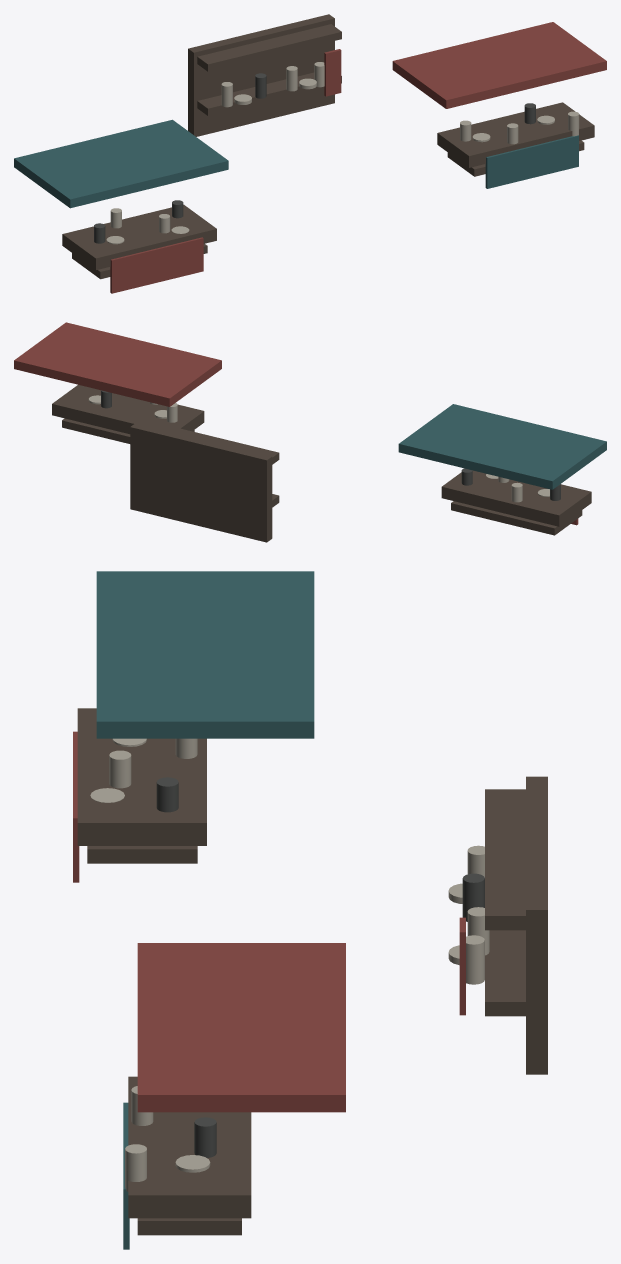
File: hd2d_market_prop_stall_detail_set.glb
3 renders of one model, top to bottom at view 1: azimuth 30°, elevation 25°; view 2: azimuth 150°, elevation 25°; view 3: azimuth 270°, elevation 25°, orthographic. The views are drawn at different scales.
Parts seen in each view (by area): view 1: StallClusterA_Canopy, StallClusterB_Canopy, StallClusterC_BackRack, StallClusterA_TableTop, StallClusterB_TableTop, StallClusterA_FabricDrop, StallClusterB_FabricDrop, StallClusterC_TopShelf, StallClusterC_LowerShelf, StallClusterC_HangingGoods; view 2: StallClusterC_BackRack, StallClusterA_Canopy, StallClusterB_Canopy, StallClusterA_TableTop, StallClusterB_TableTop, StallClusterA_ShelfLower, StallClusterC_TopShelf, StallClusterB_ShelfLower; view 3: StallClusterA_Canopy, StallClusterB_Canopy, StallClusterA_TableTop, StallClusterB_TableTop, StallClusterC_BackRack, StallClusterC_TopShelf, StallClusterC_LowerShelf, StallClusterA_ShelfLower, StallClusterB_ShelfLower, StallClusterC_CeramicJar11, StallClusterB_CeramicJar06.
Boxes of the visible parts, bbox=[...] form: StallClusterA_Canopy: bbox=[14, 119, 228, 208]; StallClusterB_Canopy: bbox=[392, 22, 606, 108]; StallClusterC_BackRack: bbox=[188, 14, 334, 136]; StallClusterA_TableTop: bbox=[62, 204, 216, 269]; StallClusterB_TableTop: bbox=[437, 102, 594, 167]; StallClusterA_FabricDrop: bbox=[110, 237, 203, 293]; StallClusterB_FabricDrop: bbox=[485, 135, 578, 188]; StallClusterC_TopShelf: bbox=[197, 24, 341, 71]; StallClusterC_LowerShelf: bbox=[197, 72, 341, 115]; StallClusterC_HangingGoods: bbox=[324, 49, 341, 96]; StallClusterC_BackRack: bbox=[130, 423, 272, 542]; StallClusterA_Canopy: bbox=[398, 404, 606, 489]; StallClusterB_Canopy: bbox=[14, 322, 221, 406]; StallClusterA_TableTop: bbox=[441, 470, 591, 526]; StallClusterB_TableTop: bbox=[52, 384, 204, 434]; StallClusterA_ShelfLower: bbox=[451, 501, 582, 535]; StallClusterC_TopShelf: bbox=[144, 421, 279, 464]; StallClusterB_ShelfLower: bbox=[62, 418, 194, 443]; StallClusterA_Canopy: bbox=[96, 571, 314, 738]; StallClusterB_Canopy: bbox=[137, 943, 345, 1112]; StallClusterA_TableTop: bbox=[77, 708, 206, 845]; StallClusterB_TableTop: bbox=[128, 1076, 251, 1218]; StallClusterC_BackRack: bbox=[526, 776, 547, 1074]; StallClusterC_TopShelf: bbox=[485, 789, 525, 930]; StallClusterC_LowerShelf: bbox=[485, 930, 525, 1016]; StallClusterA_ShelfLower: bbox=[87, 846, 197, 863]; StallClusterB_ShelfLower: bbox=[137, 1218, 241, 1235]; StallClusterC_CeramicJar11: bbox=[466, 935, 484, 984]; StallClusterB_CeramicJar06: bbox=[194, 1117, 216, 1157].
Bounding box in the file's own units: 7.76 × 1.45 × 3.01.
